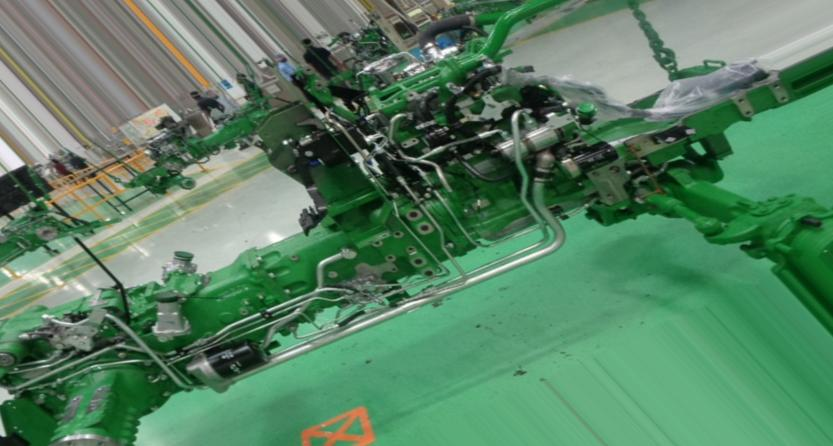engine: (0, 0, 833, 442)
